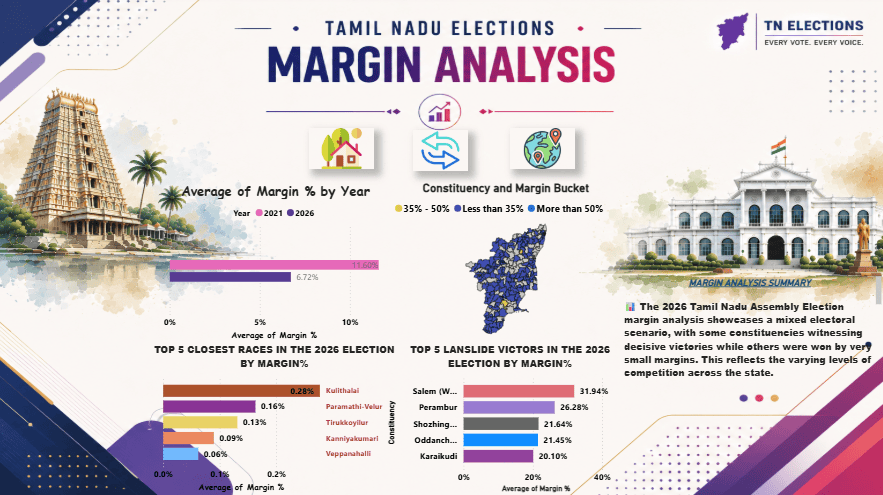

The dashboard page shown, as its layout file describes it:
{"tool":"powerbi","page":{"name":"Margin","canvas":[1280,720],"ordinal":3},"visuals":[{"type":"clusteredBarChart","fields":{"Y":["Avg(Margin Table.Margin %)"],"Series":["Margin Table.Year"]},"box":[235.7,265.7,332.9,234.3],"z":0},{"type":"clusteredBarChart","title":"TOP 5 CLOSEST RACES IN THE 2026 ELECTION BY MARGIN%","fields":{"Category":["Margin Table.Constituency"],"Y":["Avg(Margin Table.Margin %)"]},"box":[221.4,500,358.6,220],"z":1000},{"type":"shapeMap","fields":{"Series":["Margin Table.Margin Bucket"],"Category":["Margin Table.Constituency"]},"box":[568.6,265.7,331.4,234.3],"z":2000},{"type":"clusteredBarChart","title":"TOP 5 LANSLIDE VICTORS IN THE 2026 ELECTION BY MARGIN%","fields":{"Category":["Margin Table.Constituency"],"Y":["Avg(Margin Table.Margin %)"]},"box":[580,500,320,220],"z":3000},{"type":"textbox","box":[900,398.6,380,172.9],"z":4000},{"type":"image","box":[600,192.9,78.6,58.6],"z":5000},{"type":"image","box":[740,190,94.3,58.6],"z":7000},{"type":"image","box":[450,190,94.3,58.6],"z":8000}]}

Visuals, with their boxes in screenshot pixels (x1, y1, x2, y2), scaled from the page's 1280x720 canvas onto the 883x495 screenshot:
clusteredBarChart - Avg(Margin Table.Margin %) x Margin Table.Year: pyautogui.locateOnScreen(163, 183, 392, 344)
"TOP 5 CLOSEST RACES IN THE 2026 ELECTION BY MARGIN%" clusteredBarChart: pyautogui.locateOnScreen(153, 344, 400, 494)
shapeMap - Margin Table.Margin Bucket x Margin Table.Constituency: pyautogui.locateOnScreen(392, 183, 621, 344)
"TOP 5 LANSLIDE VICTORS IN THE 2026 ELECTION BY MARGIN%" clusteredBarChart: pyautogui.locateOnScreen(400, 344, 621, 494)
textbox: pyautogui.locateOnScreen(621, 274, 882, 393)
image: pyautogui.locateOnScreen(414, 133, 468, 173)
image: pyautogui.locateOnScreen(510, 131, 576, 171)
image: pyautogui.locateOnScreen(310, 131, 375, 171)
